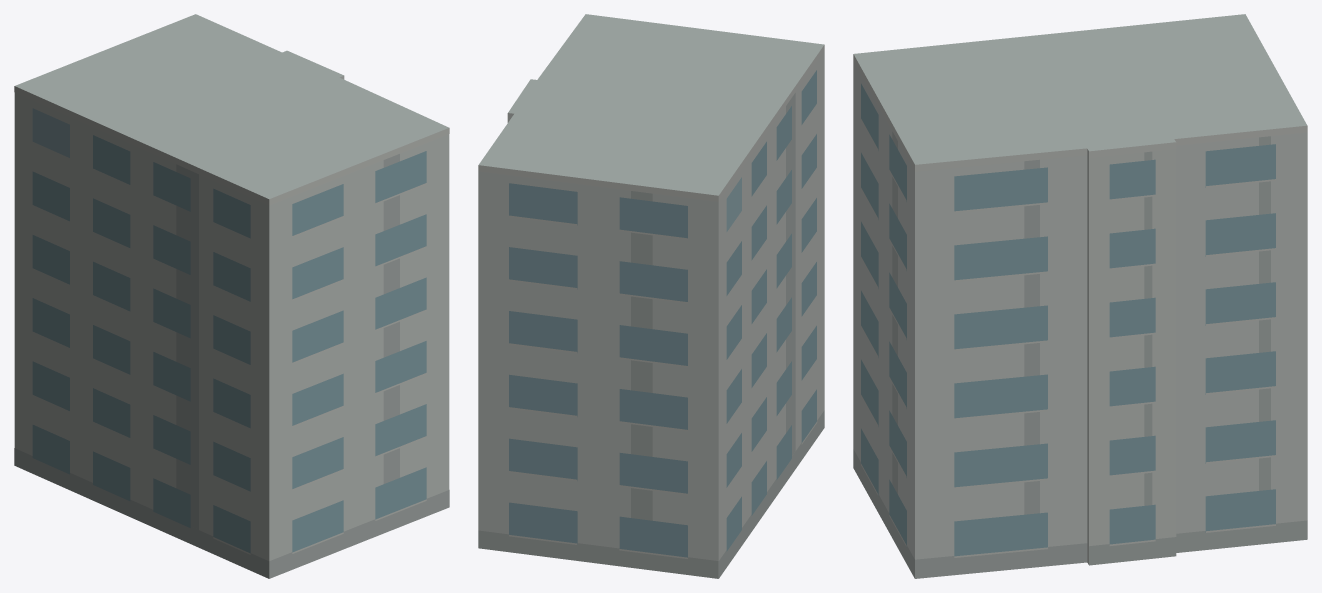
Rendered from survey-upis-32705112.glb.
3 renders of one model, left to right at view 1: azimuth 30°, elevation 25°; view 2: azimuth 150°, elevation 25°; view 3: azimuth 270°, elevation 25°, orthographic. The views are drawn at different scales.
Parts seen in each view (by area): view 1: survey-upis-32705112.tmp; view 2: survey-upis-32705112.tmp; view 3: survey-upis-32705112.tmp.
Boxes of the visible parts, x1,y1,x2,y2 form: survey-upis-32705112.tmp: (14, 14, 449, 578); survey-upis-32705112.tmp: (478, 14, 824, 578); survey-upis-32705112.tmp: (853, 14, 1307, 578).
Size of the model in its own units: 11.49 by 14.7 by 14.62.
